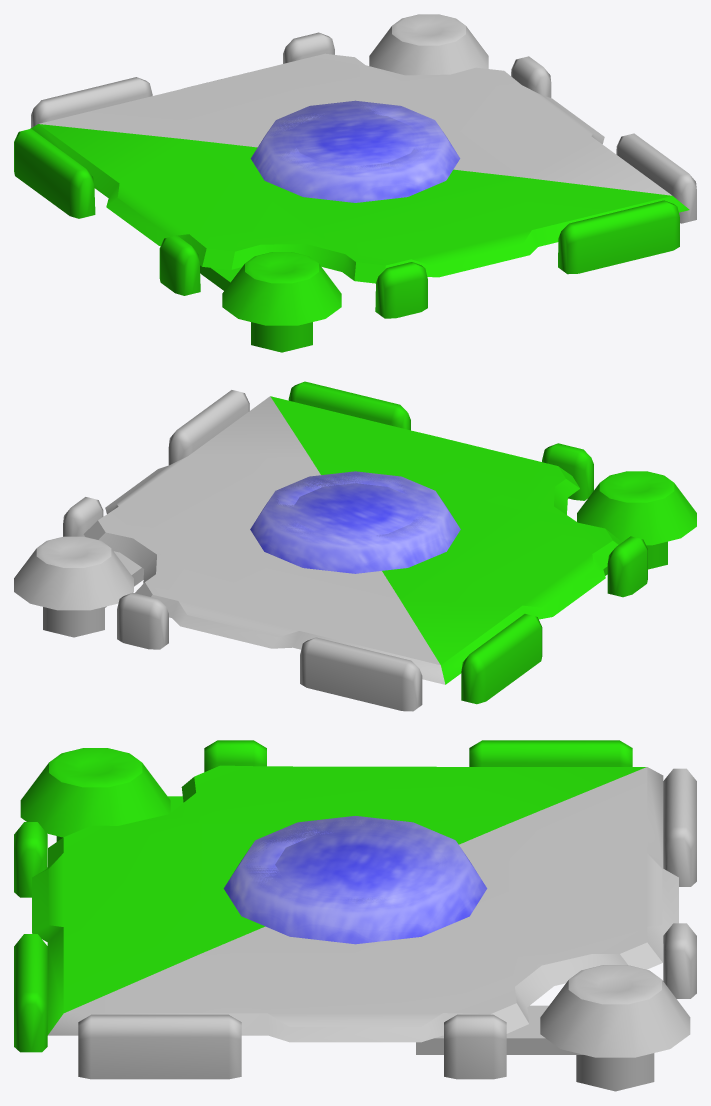
Rendered from Background.fbx.
The picture shows the model from 3 angles, top to bottom: view 1: azimuth 30°, elevation 25°; view 2: azimuth 150°, elevation 25°; view 3: azimuth 270°, elevation 25°; orthographic projection. The views are drawn at different scales.
Parts seen in each view (by area): view 1: Component_PuzzleBackground, Button, HL; view 2: Component_PuzzleBackground, Button, HL; view 3: Component_PuzzleBackground, Button, HL.
Boxes of the visible parts, x1,y1,x2,y2 form: Component_PuzzleBackground: (14, 14, 696, 352); Button: (250, 100, 460, 202); HL: (251, 101, 458, 202); Component_PuzzleBackground: (14, 381, 696, 711); Button: (250, 471, 460, 573); HL: (251, 471, 459, 573); Component_PuzzleBackground: (14, 740, 696, 1091); Button: (223, 816, 487, 944); HL: (225, 816, 486, 943).
Bounding box in the file's own units: 200 × 32.1 × 200.
